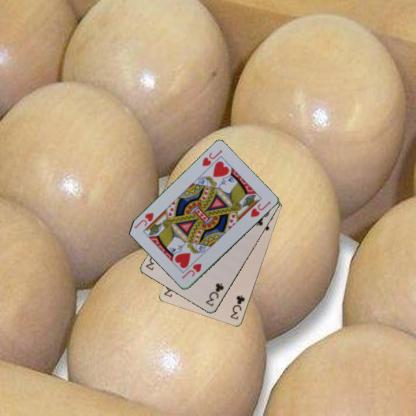3c: (204, 280, 226, 308), (228, 292, 246, 322)
Jh: (199, 147, 223, 168), (179, 261, 203, 281)
